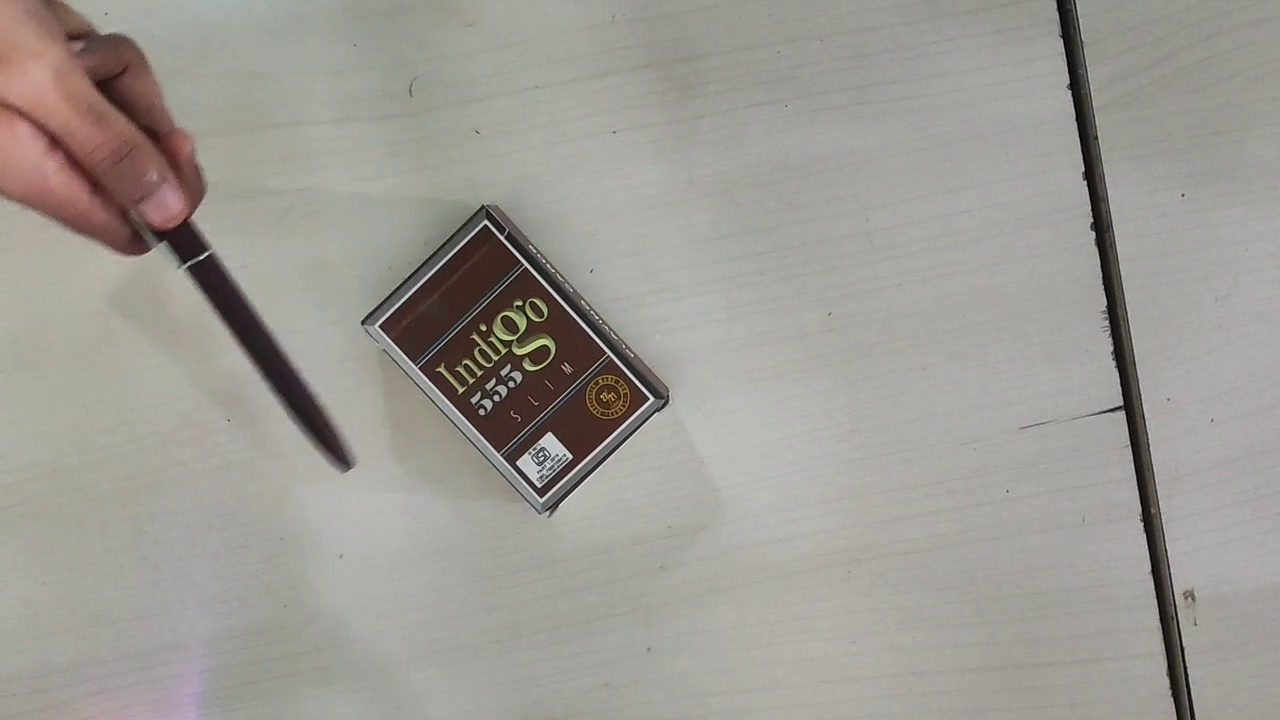BEX: (379, 218, 652, 503)
